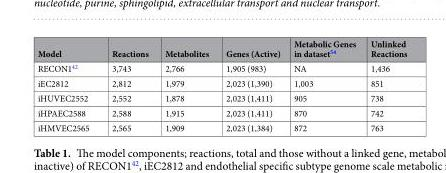table: (36, 37, 406, 133)
table column: (286, 37, 362, 133), (216, 37, 286, 133), (36, 37, 99, 133), (156, 37, 216, 133), (99, 37, 156, 133), (362, 37, 406, 133)
table column header: (36, 37, 406, 60)
table row: (36, 37, 406, 60), (36, 60, 406, 75), (36, 75, 406, 90), (36, 90, 406, 105), (36, 105, 406, 119), (36, 119, 406, 133)
